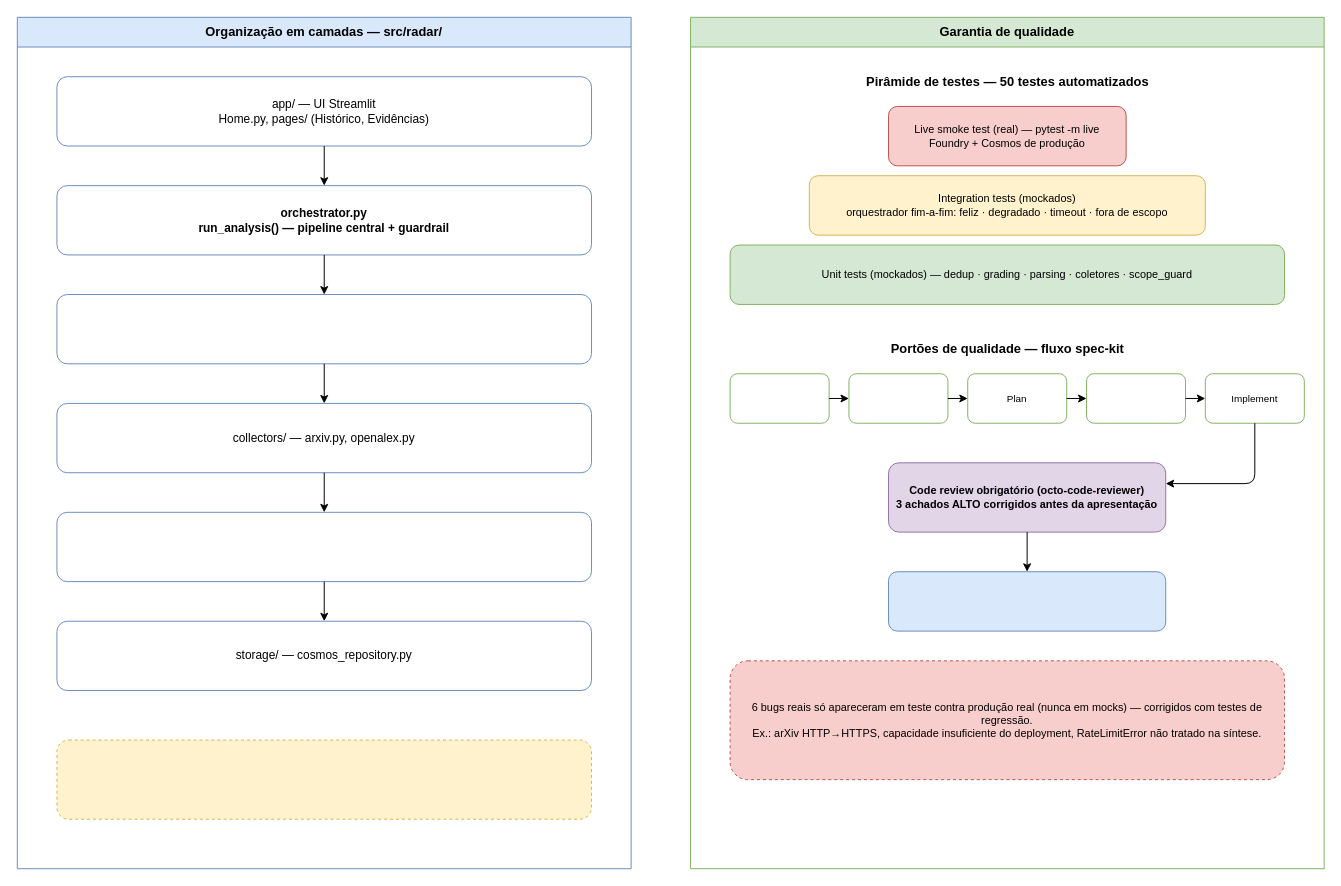
This 1341x886 diagram has some shape labels left out. Each missing label, with the centre of its shape:
"agents/ — collector_agent.py, synth_agent.py, scope_guard.py" belongs at pixel 324 329.
"Constituição" belongs at pixel 779 398.
"Produção App Service + smoke test real (T036)" belongs at pixel 1027 601.
"Spec" belongs at pixel 898 398.
"synthesis/ — dedup.py, grading.py, parsing.py" belongs at pixel 324 546.
"Tasks" belongs at pixel 1136 398.
"tests/ — unit + integration + fixtures (espelha cada módulo acima, tudo mockado)" belongs at pixel 324 779.
